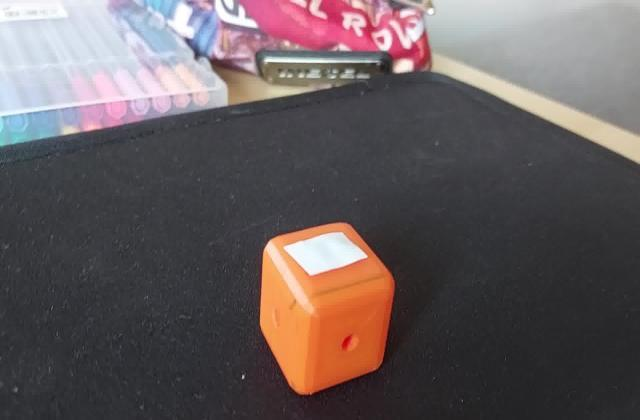cube: (256, 214, 401, 398)
white: (286, 235, 361, 281)
